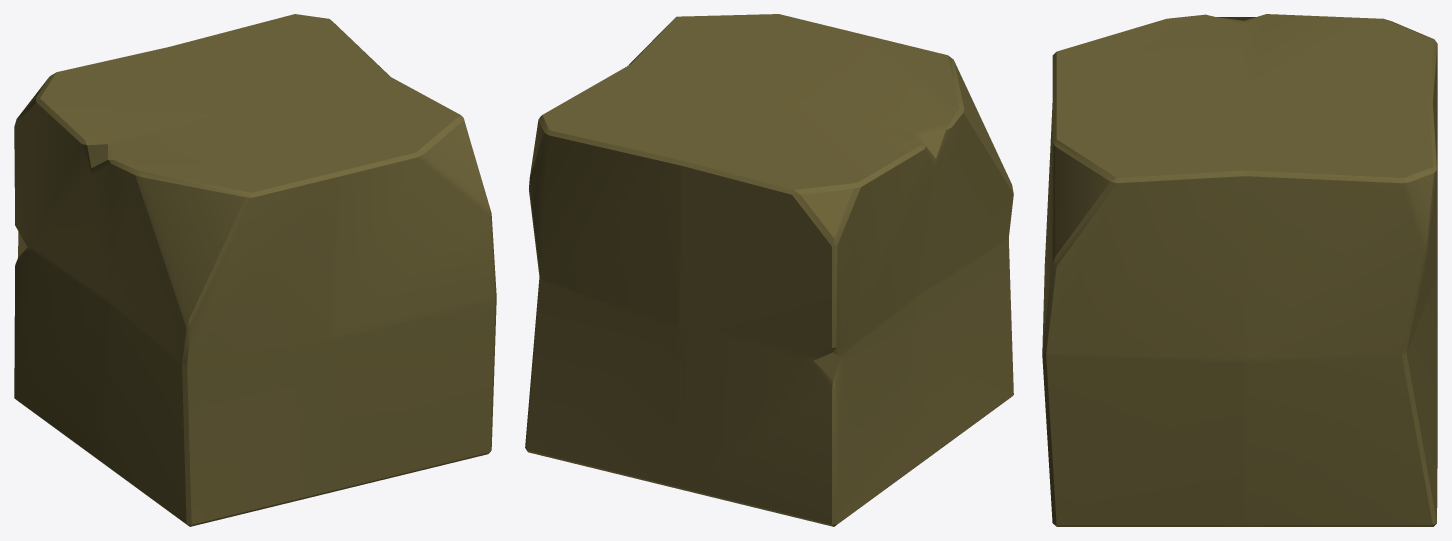
The model's file is block1.fbx.
3 renders of one model, left to right at view 1: azimuth 30°, elevation 25°; view 2: azimuth 150°, elevation 25°; view 3: azimuth 270°, elevation 25°, orthographic. The views are drawn at different scales.
Visible parts, largest first — view 1: Block_1; view 2: Block_1; view 3: Block_1.
Boxes of the visible parts, x1=… form: Block_1: x1=14, y1=14, x2=496, y2=526; Block_1: x1=525, y1=14, x2=1013, y2=526; Block_1: x1=1042, y1=14, x2=1437, y2=526.
Size of the model in its own units: 115 by 107 by 110.
